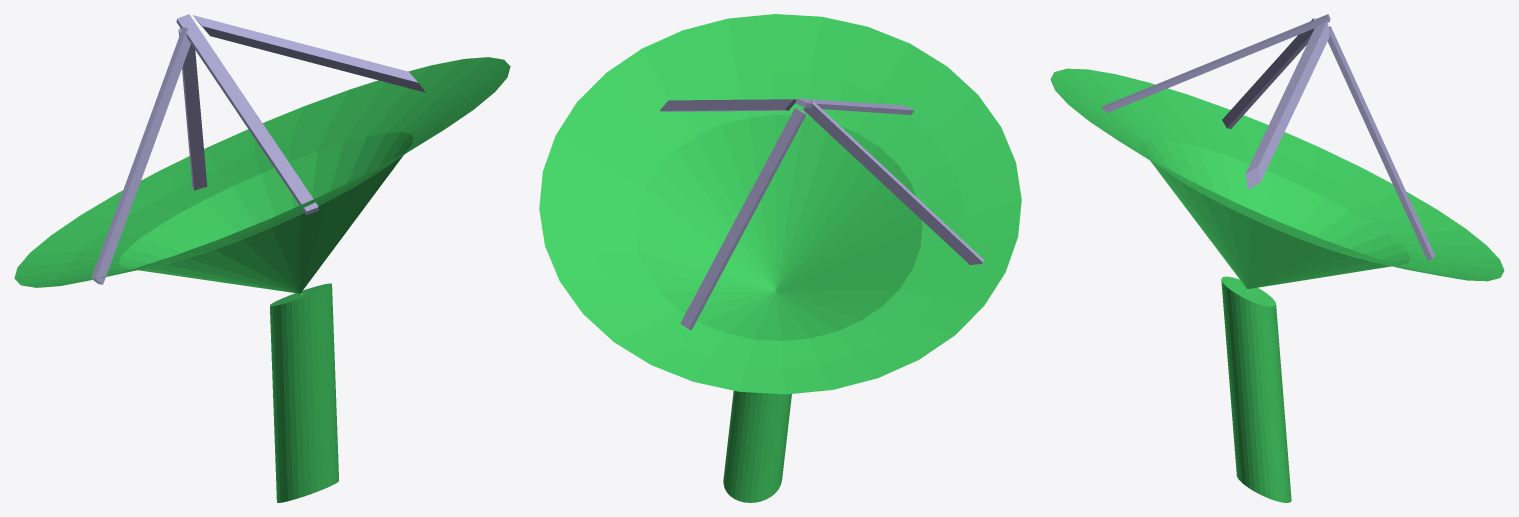
File: Radar.dae
3 views of the same model, side by side, from view 1: azimuth 30°, elevation 25°; view 2: azimuth 150°, elevation 25°; view 3: azimuth 270°, elevation 25° (orthographic). The views are drawn at different scales.
Parts seen in each view (by area): view 1: Circle, Cube; view 2: Circle, Cube; view 3: Circle, Cube.
Part boxes in pixels (box(x1,y1,x2,y2)): Circle: box(14, 57, 510, 502); Cube: box(91, 14, 425, 284); Circle: box(539, 14, 1021, 502); Cube: box(660, 98, 983, 329); Circle: box(1050, 68, 1504, 502); Cube: box(1102, 14, 1435, 260).
Size of the model in its own units: 6.18 by 5.86 by 6.33.
